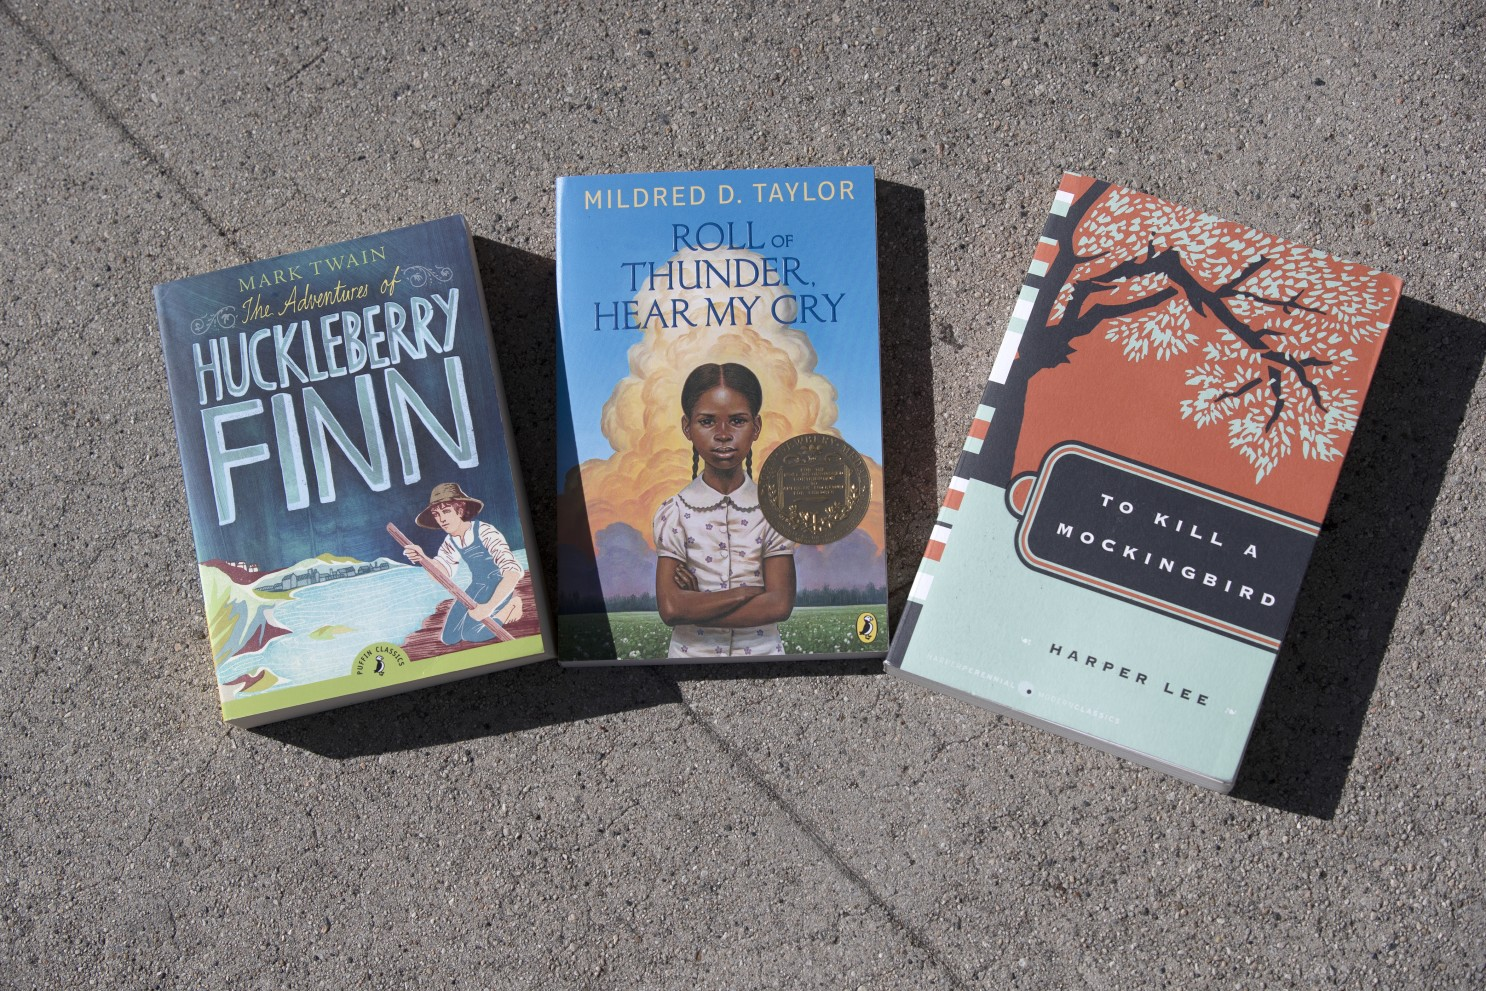book: (919, 154, 1411, 815), (153, 212, 565, 728), (548, 166, 901, 687)
